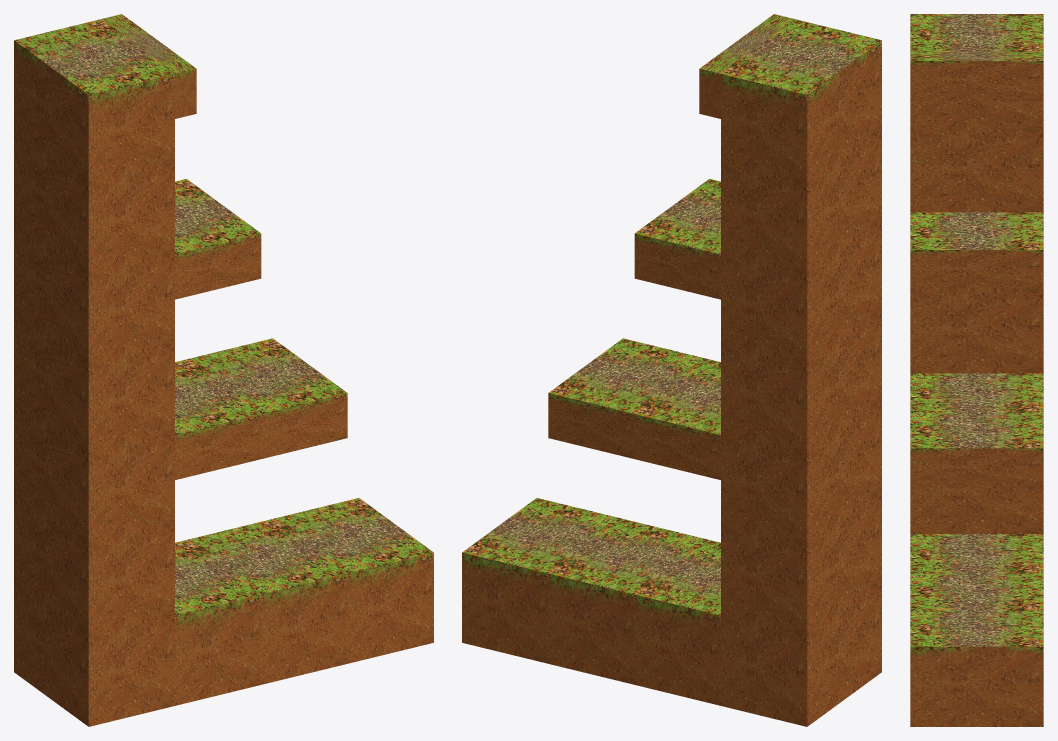
The model's file is Stair-3.fbx.
3 renders of one model, left to right at view 1: azimuth 30°, elevation 25°; view 2: azimuth 150°, elevation 25°; view 3: azimuth 270°, elevation 25°, orthographic. The views are drawn at different scales.
Parts seen in each view (by area): view 1: Unit_Block14, Unit_Block3, Unit_Block6, Unit_Block7, Unit_Block10, Unit_Block11, Unit_Block13, Unit_Block1, Unit_Block4, Unit_Block5, Unit_Block8, Unit_Block12 (+2 smaller); view 2: Unit_Block14, Unit_Block3, Unit_Block6, Unit_Block7, Unit_Block10, Unit_Block11, Unit_Block13, Unit_Block1, Unit_Block4, Unit_Block5, Unit_Block8, Unit_Block12 (+2 smaller); view 3: Unit_Block1, Unit_Block11, Unit_Block13, Unit_Block8, Unit_Block12, Unit_Block14, Unit_Block15, Unit_Block6, Unit_Block4, Unit_Block5, Unit_Block9, Unit_Block10.
Part boxes in pixels (left/top/right/bottom): Unit_Block14: left=14, top=19, right=174, bottom=184; Unit_Block3: left=14, top=582, right=174, bottom=726; Unit_Block6: left=14, top=492, right=174, bottom=636; Unit_Block7: left=14, top=401, right=174, bottom=546; Unit_Block10: left=14, top=221, right=174, bottom=365; Unit_Block11: left=14, top=311, right=174, bottom=455; Unit_Block13: left=14, top=131, right=174, bottom=275; Unit_Block1: left=273, top=498, right=433, bottom=663; Unit_Block4: left=187, top=519, right=347, bottom=684; Unit_Block5: left=175, top=540, right=261, bottom=705; Unit_Block8: left=187, top=338, right=347, bottom=458; Unit_Block12: left=175, top=179, right=261, bottom=299; Unit_Block14: left=721, top=19, right=881, bottom=184; Unit_Block3: left=721, top=582, right=881, bottom=726; Unit_Block6: left=721, top=492, right=881, bottom=636; Unit_Block7: left=721, top=401, right=881, bottom=546; Unit_Block10: left=721, top=221, right=881, bottom=365; Unit_Block11: left=721, top=311, right=881, bottom=455; Unit_Block13: left=721, top=131, right=881, bottom=275; Unit_Block1: left=462, top=498, right=622, bottom=663; Unit_Block4: left=548, top=519, right=708, bottom=684; Unit_Block5: left=634, top=540, right=720, bottom=705; Unit_Block8: left=548, top=338, right=708, bottom=458; Unit_Block12: left=634, top=179, right=720, bottom=299; Unit_Block1: left=910, top=609, right=1043, bottom=726; Unit_Block11: left=910, top=292, right=1043, bottom=373; Unit_Block13: left=910, top=132, right=1043, bottom=212; Unit_Block8: left=910, top=410, right=1043, bottom=488; Unit_Block12: left=910, top=212, right=1043, bottom=289; Unit_Block14: left=910, top=14, right=1043, bottom=131; Unit_Block15: left=910, top=51, right=1043, bottom=100; Unit_Block6: left=910, top=488, right=1043, bottom=533; Unit_Block4: left=910, top=571, right=1043, bottom=608; Unit_Block5: left=910, top=534, right=1043, bottom=571; Unit_Block9: left=910, top=373, right=1043, bottom=410; Unit_Block10: left=910, top=290, right=1043, bottom=292.
Bounding box in the file's own units: 8 × 14 × 3.
